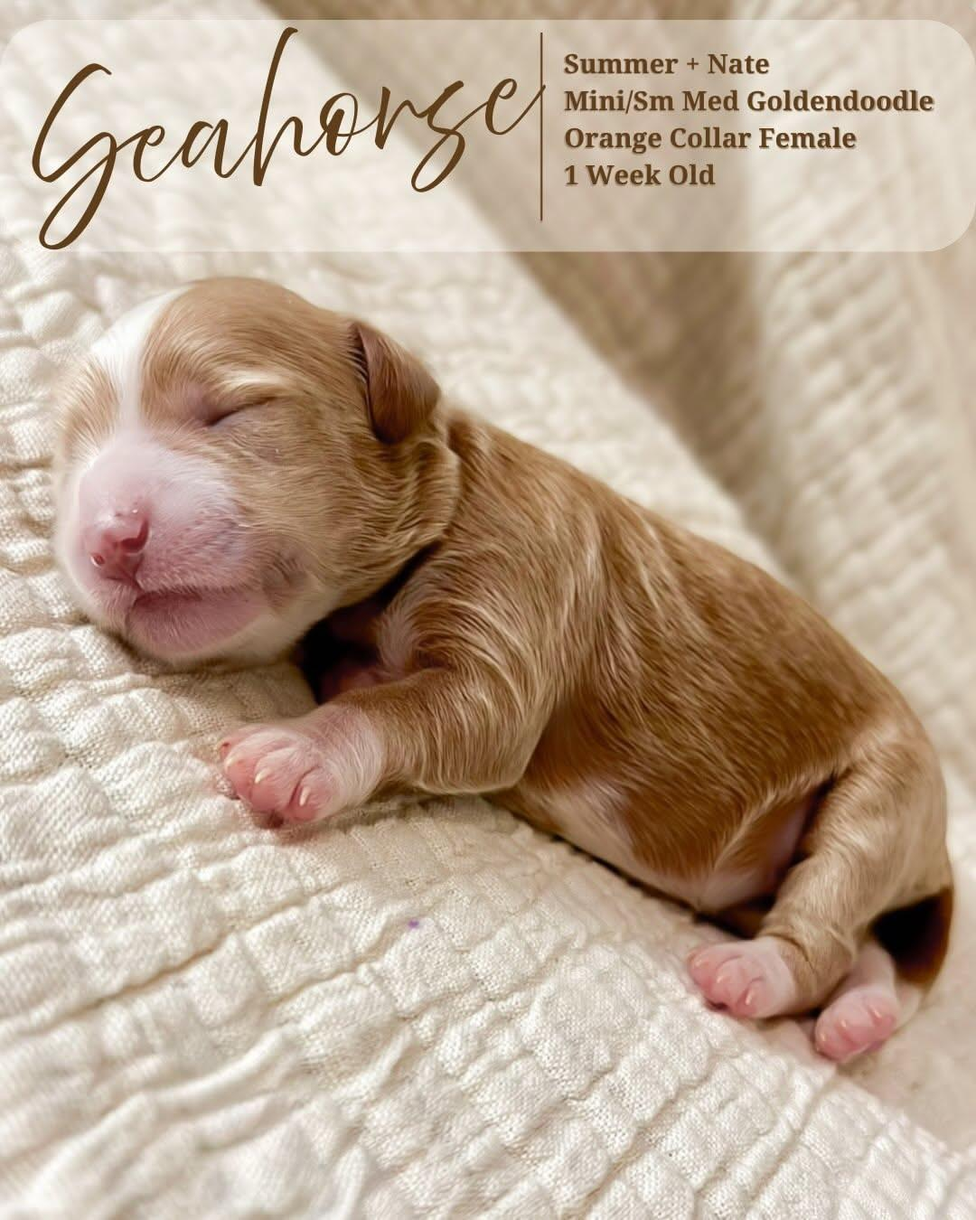puppy-dog: (41, 272, 958, 1075)
